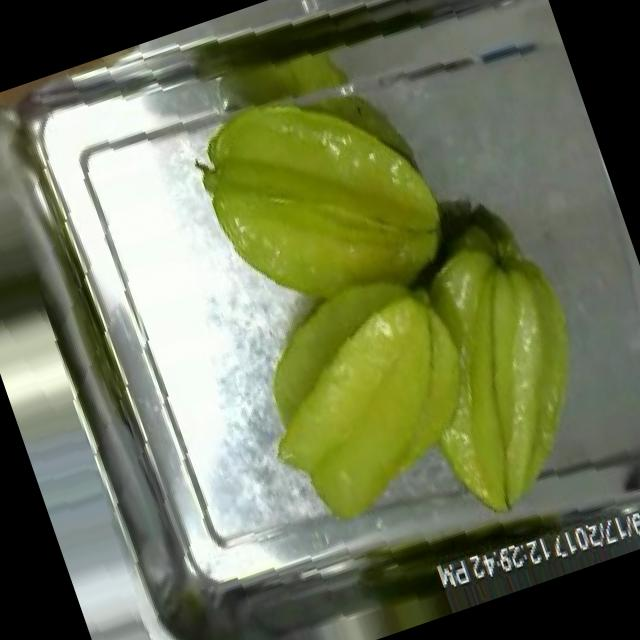fruit: (218, 195, 640, 599), (168, 39, 479, 357)
